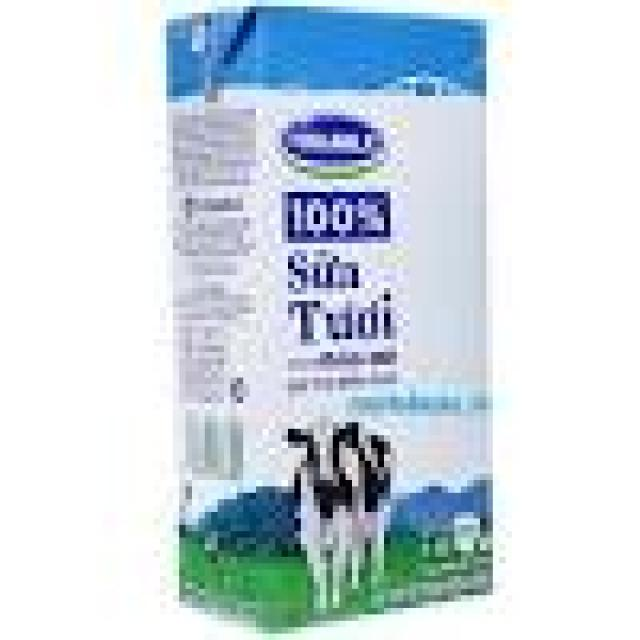non_white_jug: (154, 3, 512, 618)
